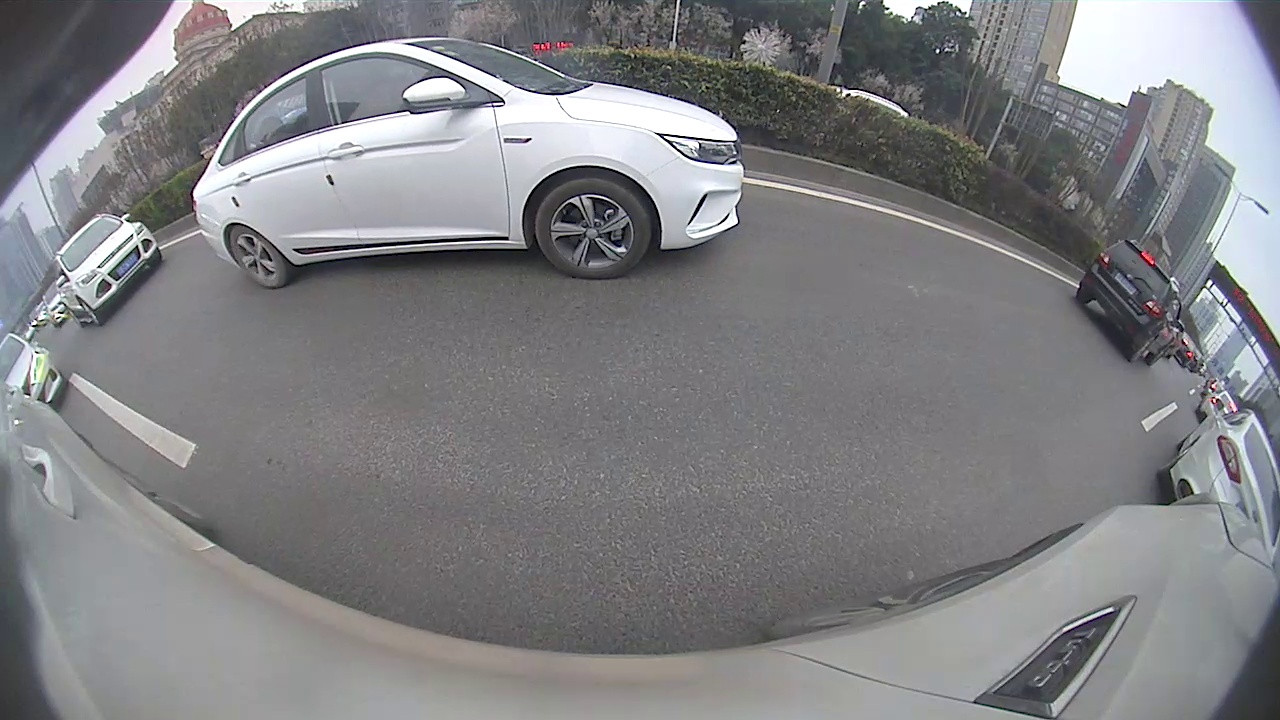car: (189, 35, 745, 292), (1154, 397, 1278, 552), (1074, 237, 1186, 366), (53, 211, 163, 330), (2, 330, 67, 410)
front: (537, 177, 653, 281), (83, 300, 105, 328)
rear: (228, 225, 288, 293), (1129, 334, 1158, 363)
